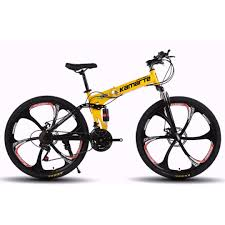bicycle: (4, 46, 220, 191)
